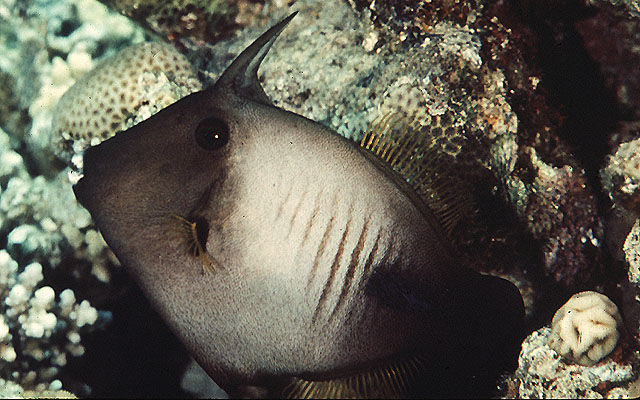fish: (73, 10, 526, 400)
